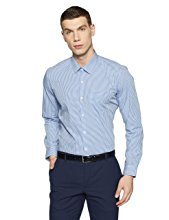Shirts: (36, 49, 150, 178)
